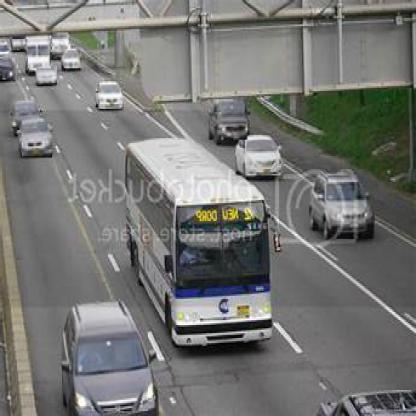car: (62, 302, 149, 414), (303, 172, 376, 242), (235, 138, 282, 178), (209, 99, 249, 143), (22, 123, 53, 160), (12, 99, 39, 131), (99, 81, 124, 112), (2, 53, 19, 82), (36, 66, 58, 86), (64, 51, 84, 71), (13, 40, 25, 51)
truck: (28, 35, 52, 71), (52, 34, 69, 60)
